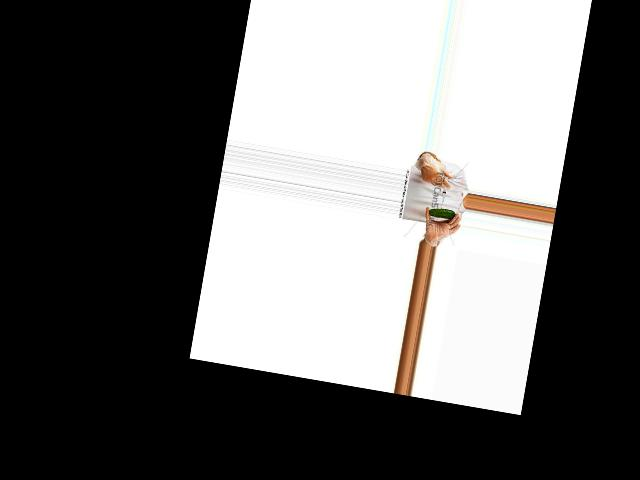cucumber: (427, 206, 455, 220)
